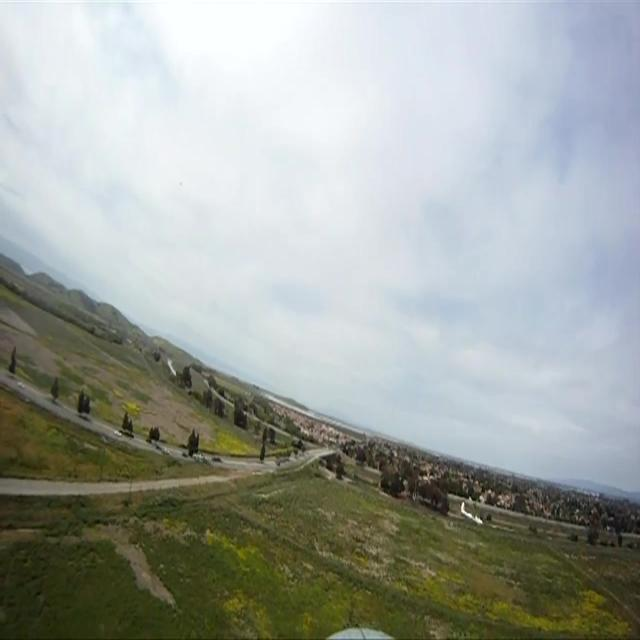iha: (460, 499, 485, 529)
